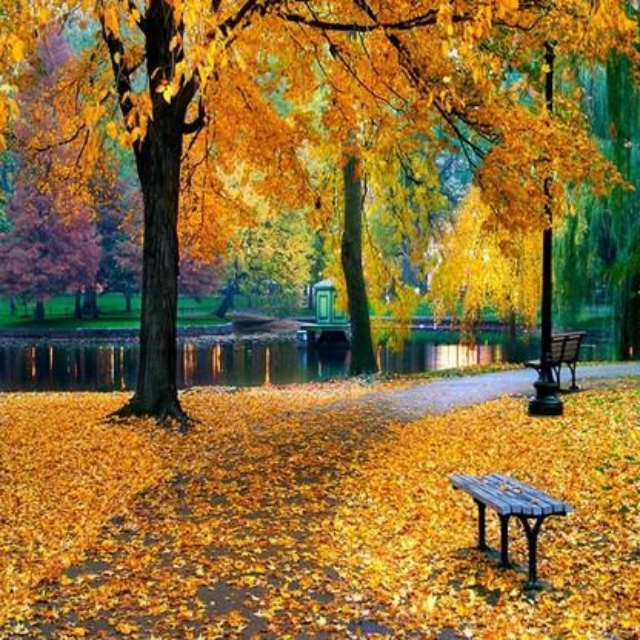obstacle: (435, 463, 580, 598), (542, 314, 597, 386)
